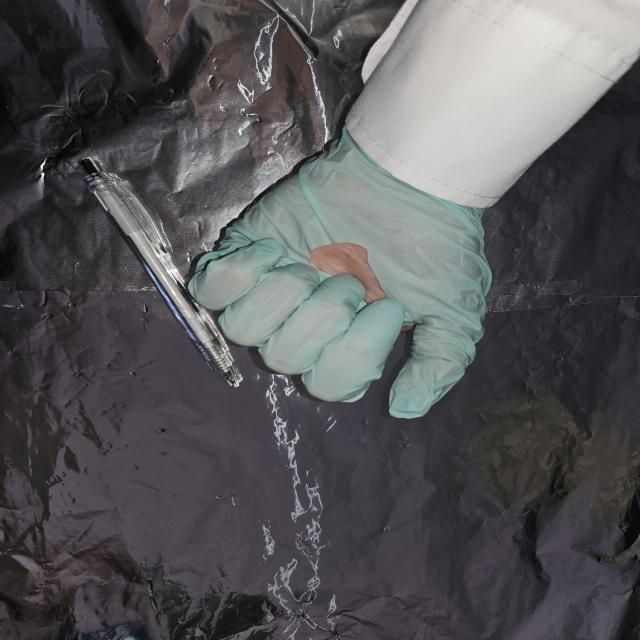gloves_damaged: (182, 124, 492, 420)
